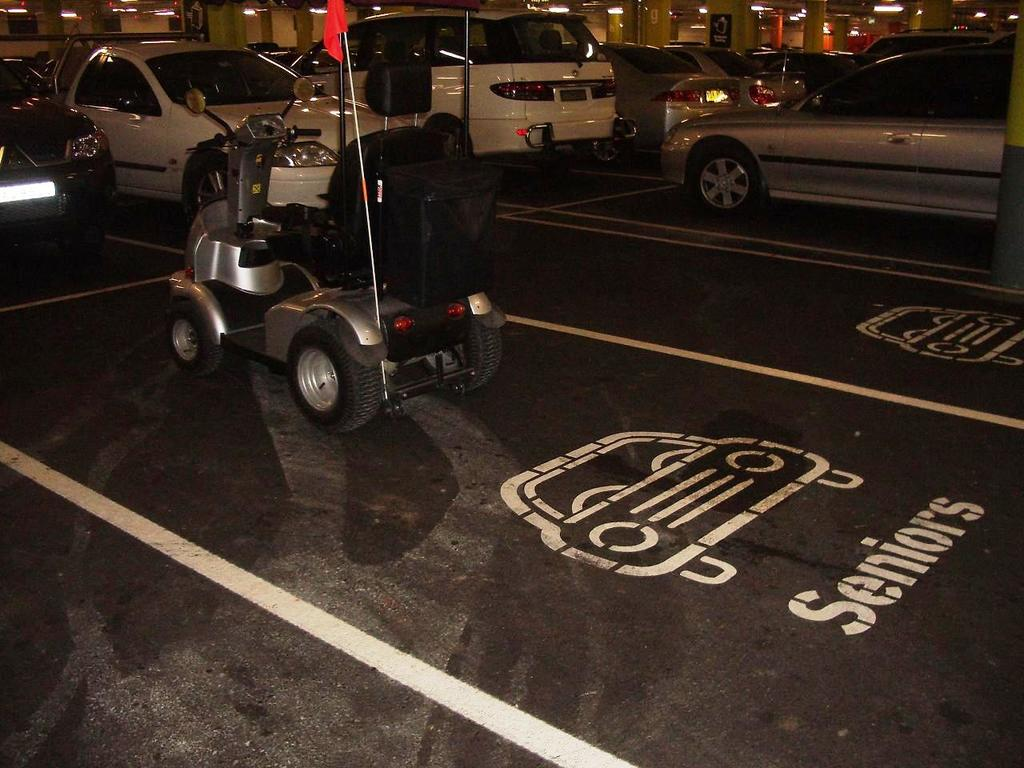mobil: (669, 53, 1015, 236), (419, 5, 630, 163)
